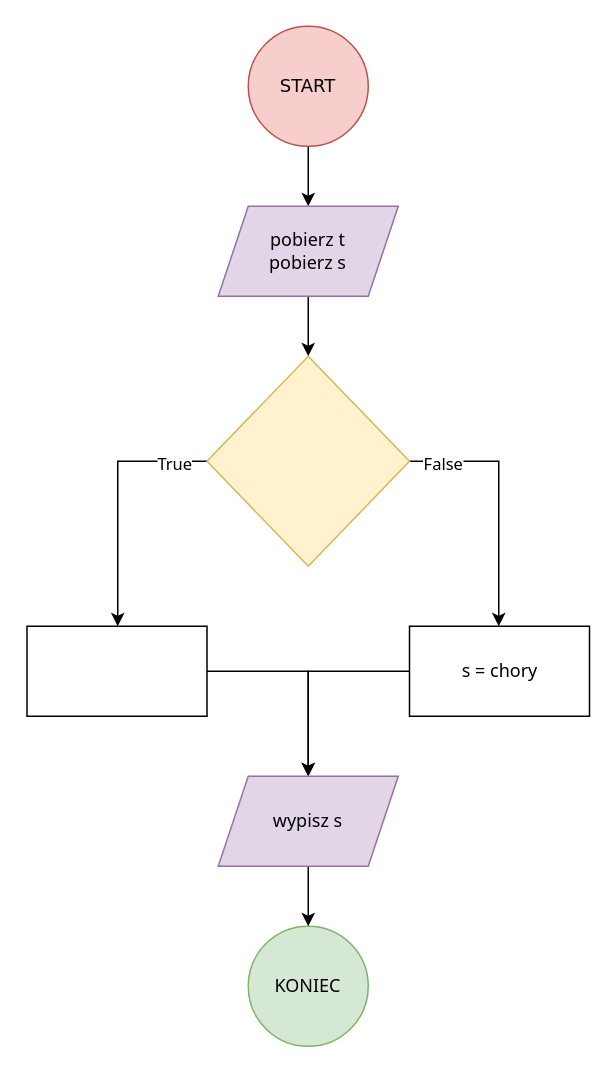
This 615x1073 diagram has some shape labels left out. Here are the shapes that lost their labels. From the top down, the box of each, then its label:
(206, 355, 410, 566): t>36,5 and t<=37
(26, 625, 207, 716): s=zdrowy
